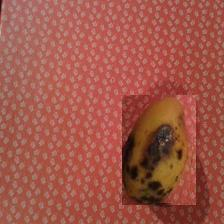Mango Semirotten: (122, 95, 196, 205)
